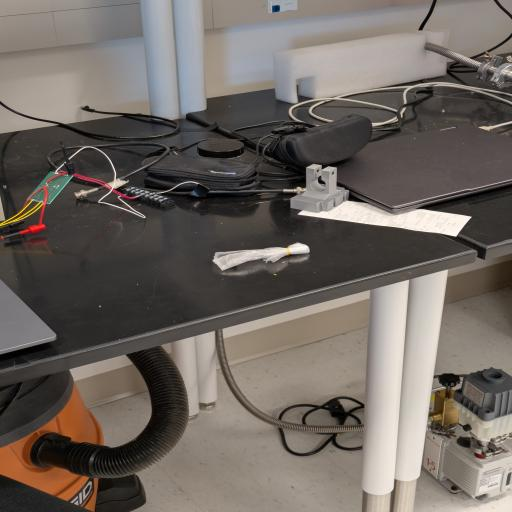rubberband: (209, 242, 314, 272)
